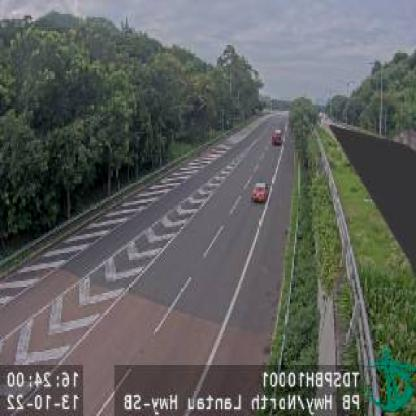Car: (252, 178, 268, 201), (272, 127, 283, 146)
